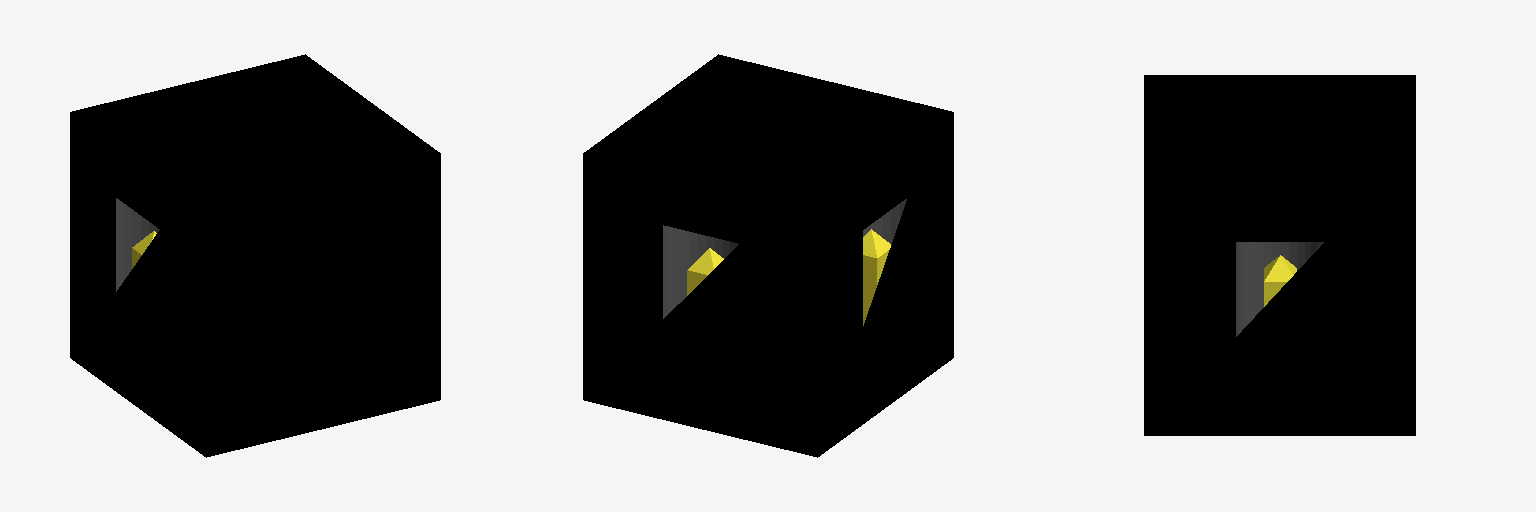
The picture shows the model from 3 angles: view 1: azimuth 30°, elevation 25°; view 2: azimuth 150°, elevation 25°; view 3: azimuth 270°, elevation 25°; orthographic projection.
Parts seen in each view (by area): view 1: 立方体.004; view 2: 立方体.004; view 3: 立方体.004.
Boxes of the visible parts, x1,y1,x2,y2 form: 立方体.004: [70, 54, 440, 457]; 立方体.004: [583, 54, 953, 457]; 立方体.004: [1144, 75, 1415, 435].
Size of the model in its own units: 2 by 2 by 2.
1 materials, 1 textured.